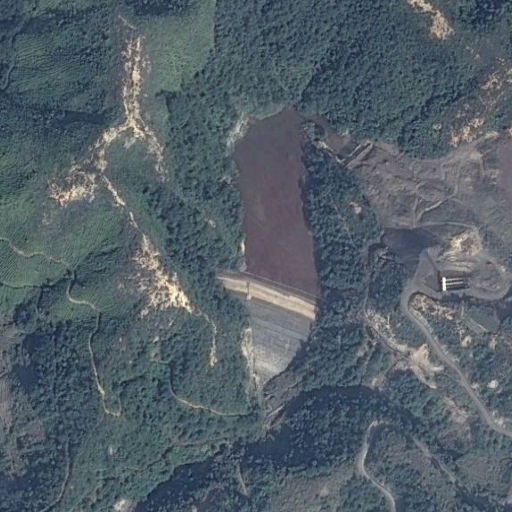tp: (212, 104, 322, 393)
